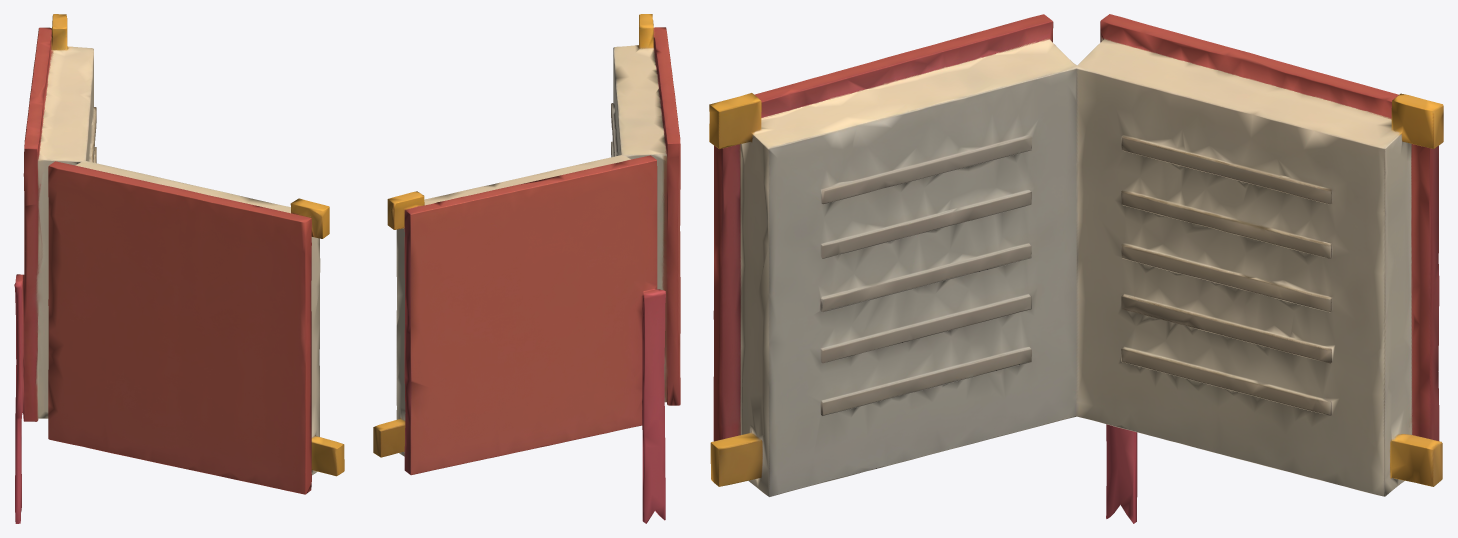
File: open-book.glb
3 renders of one model, left to right at view 1: azimuth 30°, elevation 25°; view 2: azimuth 150°, elevation 25°; view 3: azimuth 270°, elevation 25°, orthographic. The views are drawn at different scales.
Parts seen in each view (by area): view 1: tripo_node_64e269dd-85ba-46a4-a23b-eb6a4398d407; view 2: tripo_node_64e269dd-85ba-46a4-a23b-eb6a4398d407; view 3: tripo_node_64e269dd-85ba-46a4-a23b-eb6a4398d407.
Boxes of the visible parts, x1=… form: tripo_node_64e269dd-85ba-46a4-a23b-eb6a4398d407: x1=14, y1=14, x2=344, y2=523; tripo_node_64e269dd-85ba-46a4-a23b-eb6a4398d407: x1=373, y1=14, x2=680, y2=523; tripo_node_64e269dd-85ba-46a4-a23b-eb6a4398d407: x1=709, y1=14, x2=1443, y2=523.
Size of the model in its own units: 0.3986 by 0.7808 by 1.
Materials: 1 (1 with a texture image).
